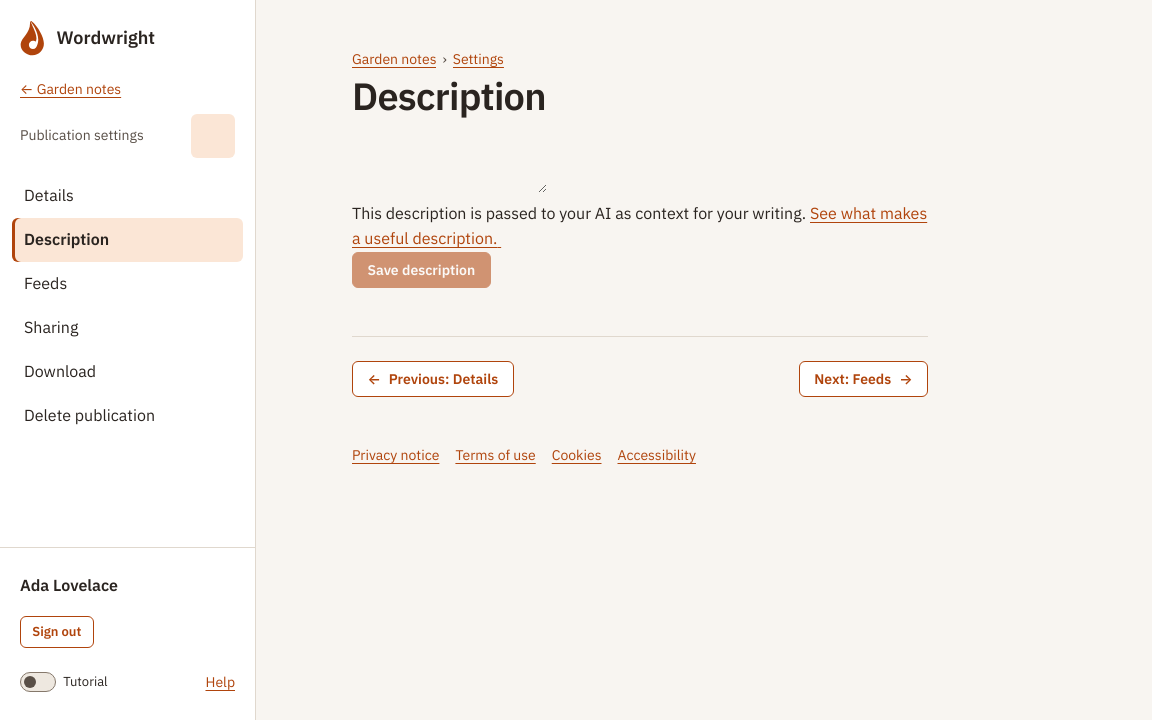
describing a publication: guidance and the box › saves what is written in the box
Expected: the button "Save description" is disabled, x1=352 y1=252 x2=491 y2=288
Type "Personal weeknotes, mostly for me." into the text box named "Description".
click(450, 168); type("Personal weeknotes, mostly for me.")  # box x1=352 y1=142 x2=547 y2=193
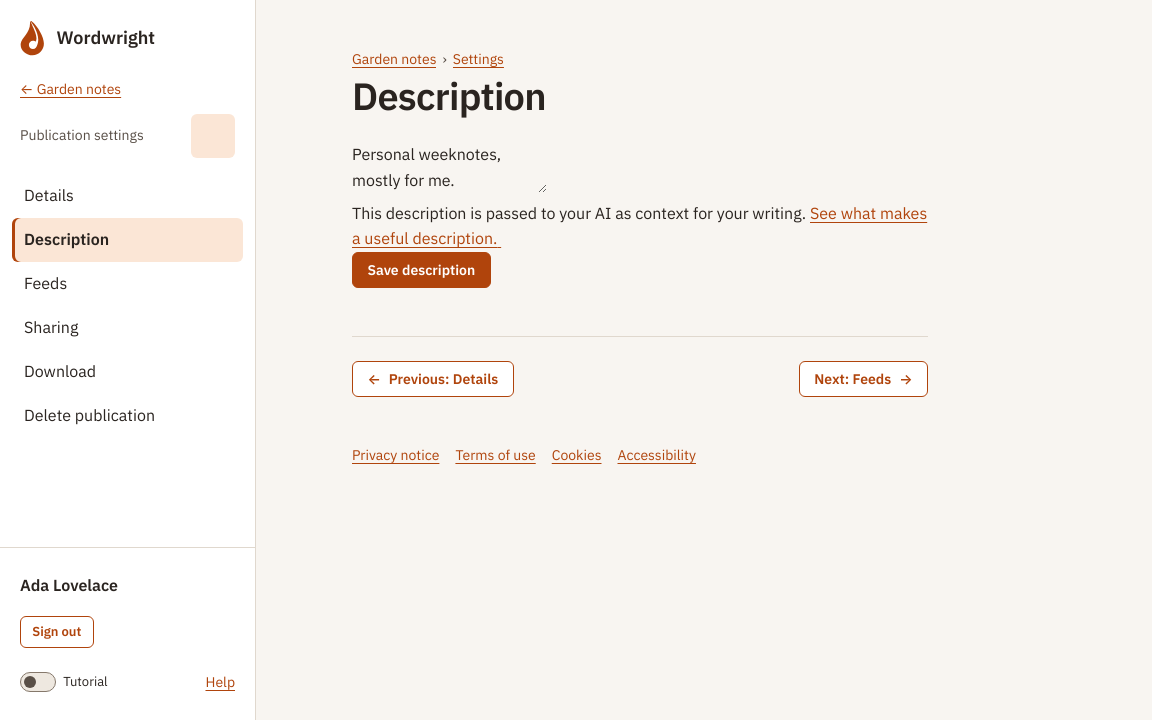
Click the button "Save description".
click(421, 270)  # box x1=352 y1=252 x2=491 y2=288
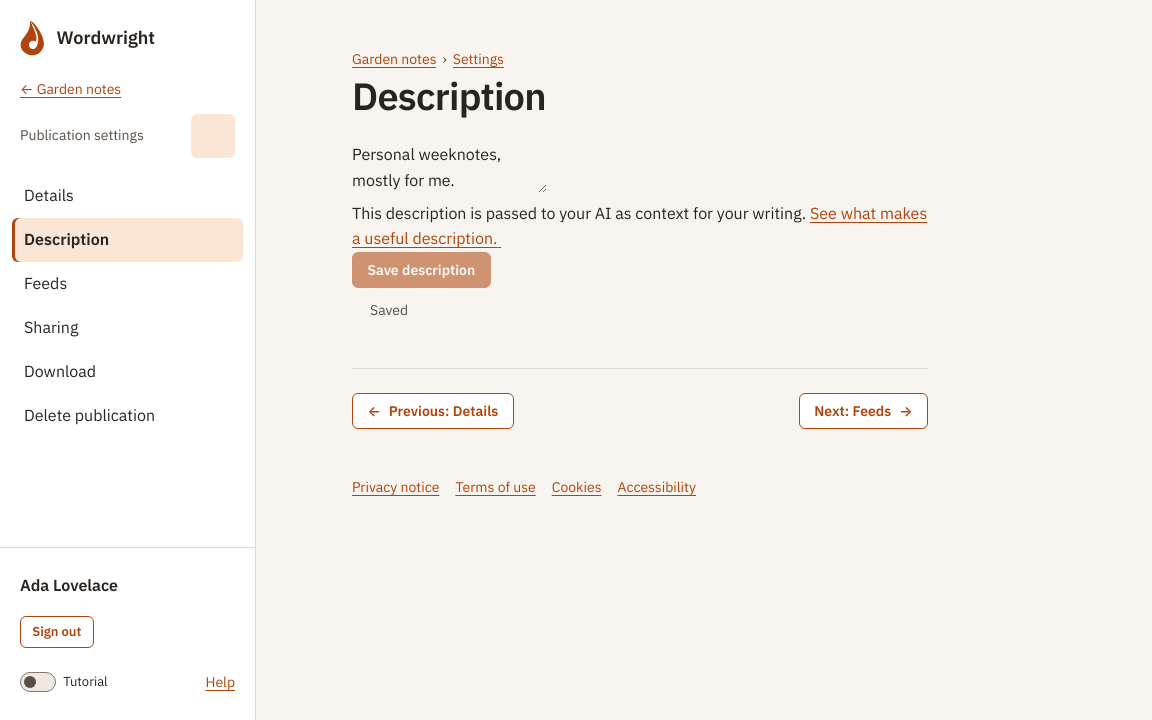
Result: the text "Saved" is shown at x1=352 y1=301 x2=408 y2=319
